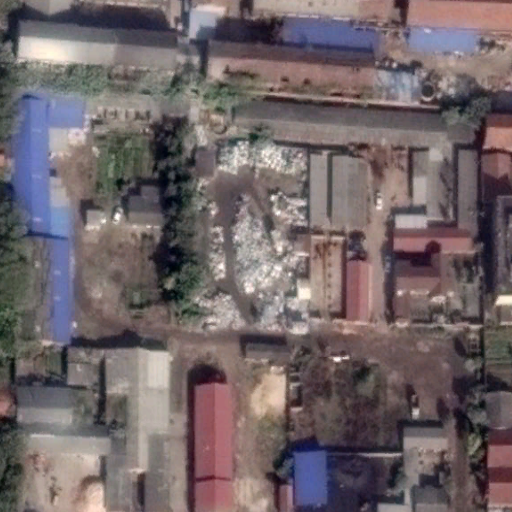msw: (192, 137, 311, 333)
